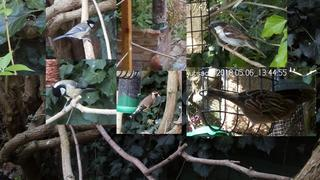goldfinch: (128, 91, 162, 120)
great tit: (52, 79, 96, 113), (52, 20, 96, 42)
sparrow: (206, 87, 296, 129), (206, 20, 267, 58)
